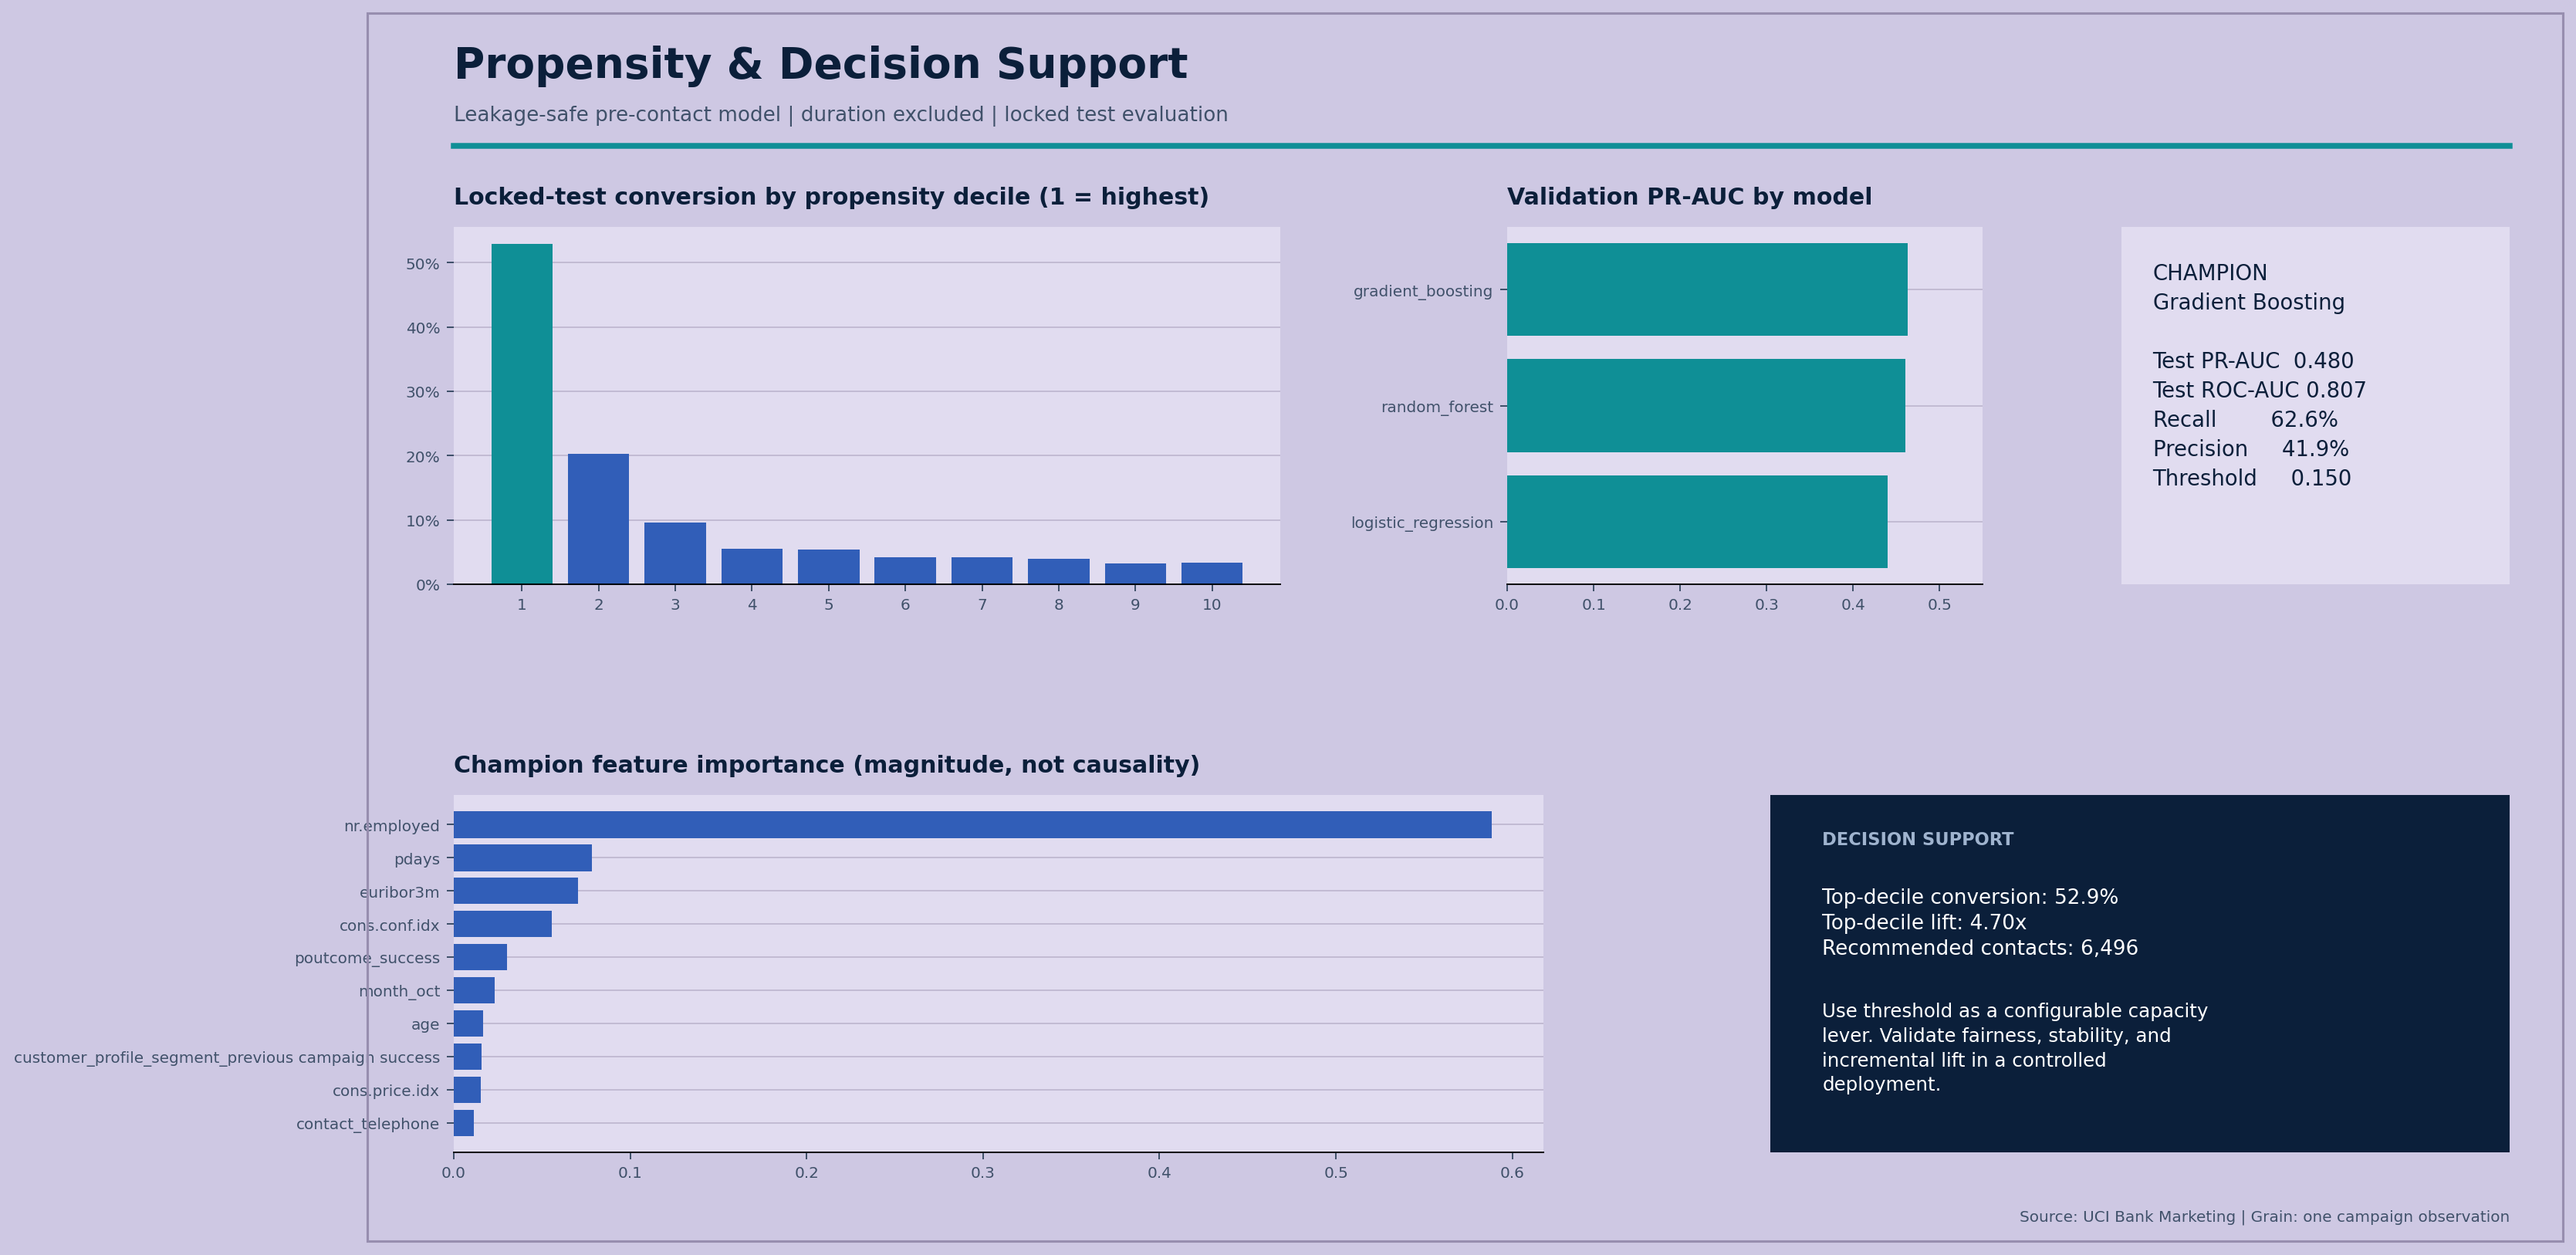

This screenshot's page, from the dashboard's own definition file:
{"tool":"powerbi","page":{"name":"Propensity & Decision Support","canvas":[1280,720],"ordinal":3},"visuals":[{"type":"shape","box":[45,8.3,1188.3,91.7],"z":0},{"type":"card","fields":{"Values":["_Measures.Locked Test Observations"]},"box":[44,106,290,96],"z":1000},{"type":"clusteredColumnChart","title":"Locked-Test Conversion by Propensity Decile","fields":{"Category":["model_evaluation_decile.locked_test_decile"],"Y":["_Measures.Locked Test Decile Conversion Rate"]},"box":[45.6,206.7,680,281.1],"z":2000},{"type":"clusteredBarChart","title":"Top Feature Importance","fields":{"Category":["feature_importance.feature"],"Y":["Sum(feature_importance.importance)"]},"box":[736.7,207.8,497.8,280],"z":3000},{"type":"textbox","box":[44.4,498.9,481.1,213.3],"z":4000},{"type":"textbox","box":[126.7,16.7,465,55],"z":5000},{"type":"textbox","box":[129,63,485,31],"z":6000},{"type":"image","box":[60,26,64,64],"z":7000},{"type":"image","box":[52.1,116.4,62.1,73.6],"z":8000},{"type":"card","fields":{"Values":["_Measures.Scenario Observed Conversion Rate"]},"box":[1005.8,519.2,227.5,174.2],"z":9000},{"type":"card","fields":{"Values":["_Measures.Locked Test Top-Decile Conversion Rate"]},"box":[344.4,105.6,290,96.7],"z":10000},{"type":"card","fields":{"Values":["_Measures.Locked Test Top-Decile Lift"]},"box":[644.4,105.6,290,96.7],"z":11000},{"type":"slicer","fields":{"Values":["Threshold Parameter.Value"]},"box":[943.6,105.7,290,95.7],"z":12000},{"type":"card","fields":{"Values":["_Measures.Scenario Target Observations"]},"box":[768.3,519.2,229.2,174.2],"z":13000},{"type":"card","fields":{"Values":["_Measures.Selected Threshold"]},"box":[531.7,519.2,228.3,174.2],"z":14000},{"type":"image","box":[51,523,94,158],"z":15000},{"type":"image","box":[351.2,116.2,61.2,73.8],"z":16000},{"type":"image","box":[650,116.1,61.7,73.9],"z":17000},{"type":"image","box":[541.7,550,56.7,71.7],"z":18000},{"type":"image","box":[777.5,550,56.7,71.7],"z":19000},{"type":"image","box":[1013.3,550,56.7,71.7],"z":20000}]}

Visuals, with their boxes on the page's 1280x720 design canvas (x1, y1, x2, y2). These are canvas units, not pixel positions in the 2576x1255 screenshot, which may show the page scaled, cropped or inside an application window:
shape: 45,8,1233,100
card - _Measures.Locked Test Observations: 44,106,334,202
"Locked-Test Conversion by Propensity Decile" clusteredColumnChart: 46,207,726,488
"Top Feature Importance" clusteredBarChart: 737,208,1234,488
textbox: 44,499,526,712
textbox: 127,17,592,72
textbox: 129,63,614,94
image: 60,26,124,90
image: 52,116,114,190
card - _Measures.Scenario Observed Conversion Rate: 1006,519,1233,693
card - _Measures.Locked Test Top-Decile Conversion Rate: 344,106,634,202
card - _Measures.Locked Test Top-Decile Lift: 644,106,934,202
slicer - Threshold Parameter.Value: 944,106,1234,201
card - _Measures.Scenario Target Observations: 768,519,998,693
card - _Measures.Selected Threshold: 532,519,760,693
image: 51,523,145,681
image: 351,116,412,190
image: 650,116,712,190
image: 542,550,598,622
image: 778,550,834,622
image: 1013,550,1070,622
